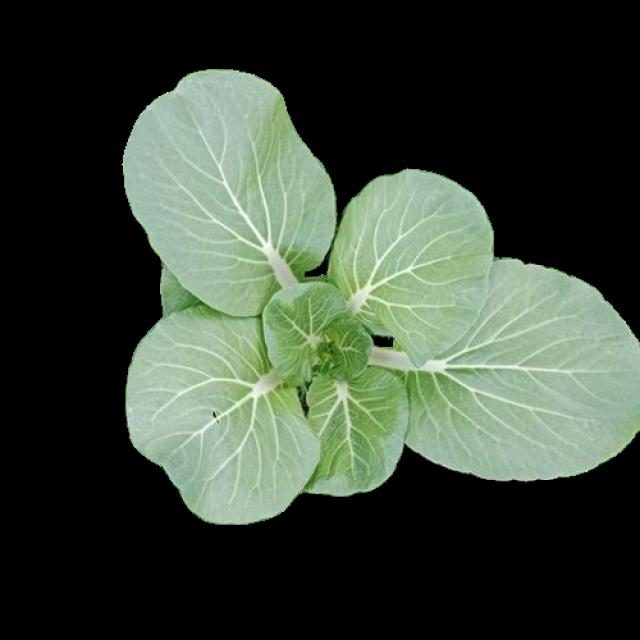not-mature: (124, 72, 639, 524)
unhealthy: (124, 306, 300, 521)
